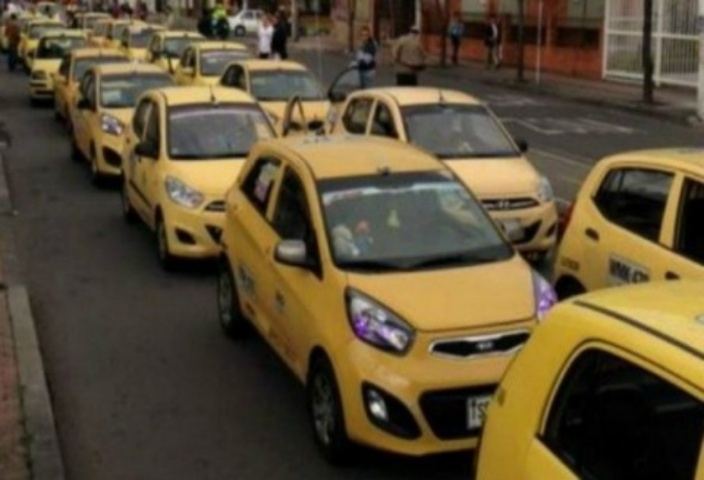taxi: (205, 122, 573, 449), (327, 84, 567, 249), (97, 79, 276, 273), (567, 132, 704, 299), (63, 61, 187, 172), (213, 59, 344, 146), (29, 30, 100, 98), (73, 38, 131, 115), (177, 42, 252, 100)
